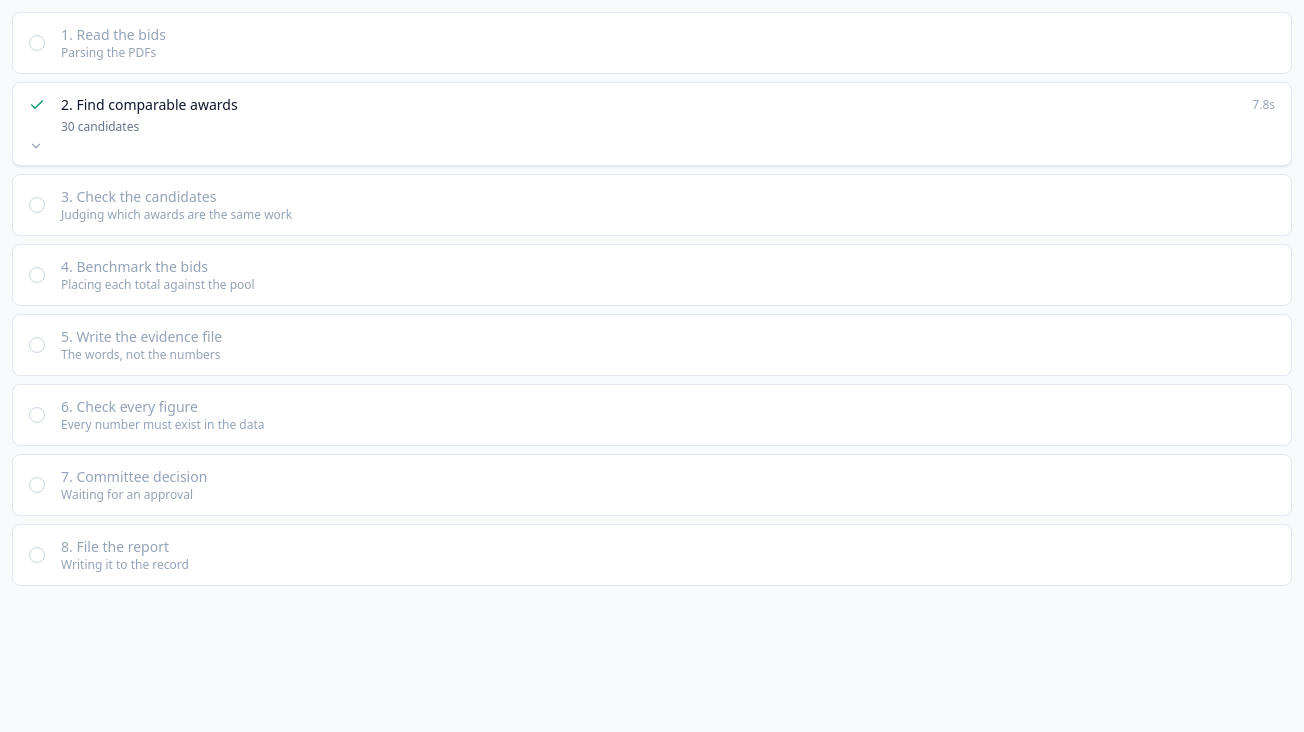
Test case: the step stream as a summary › lets a finished step be opened again to read what it did
Click the button "2. Find comparable awards 7.8s 30 candidates": (157, 104) [13,83,1291,165]
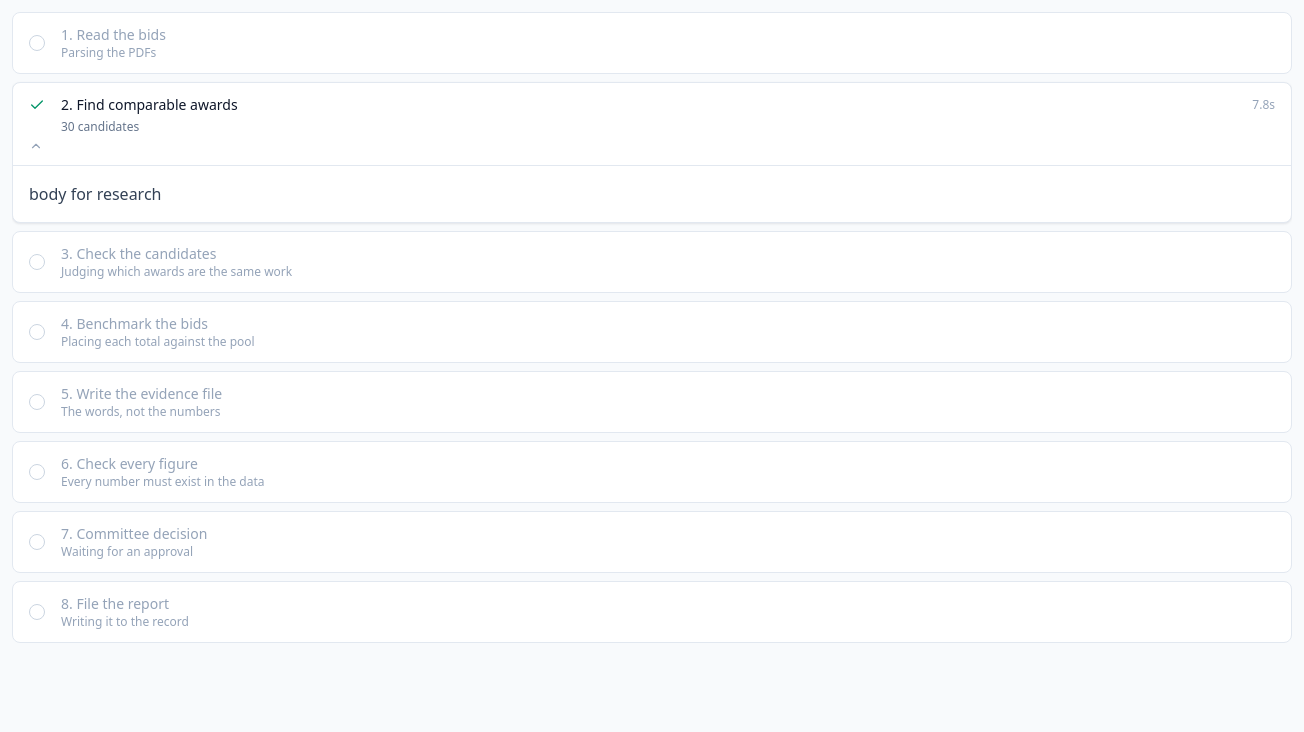
Check: the text "body for research" is shown, box [29,183,162,205]
